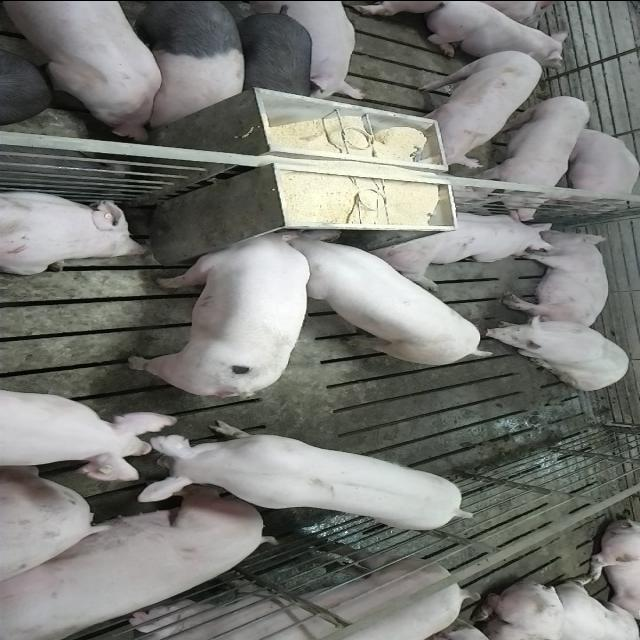Feeding: (122, 220, 311, 392), (284, 231, 498, 367)
Lateral_lying: (1, 489, 274, 636), (501, 228, 611, 330)
Sitting: (482, 315, 634, 390)
Standing: (129, 419, 475, 533), (118, 542, 467, 640), (1, 1, 164, 140), (0, 388, 177, 487), (119, 2, 249, 129), (408, 48, 544, 168), (478, 92, 594, 220), (226, 4, 316, 110)
Sternal_lying: (369, 208, 555, 284), (0, 187, 150, 275), (418, 2, 570, 62), (554, 125, 638, 205)
